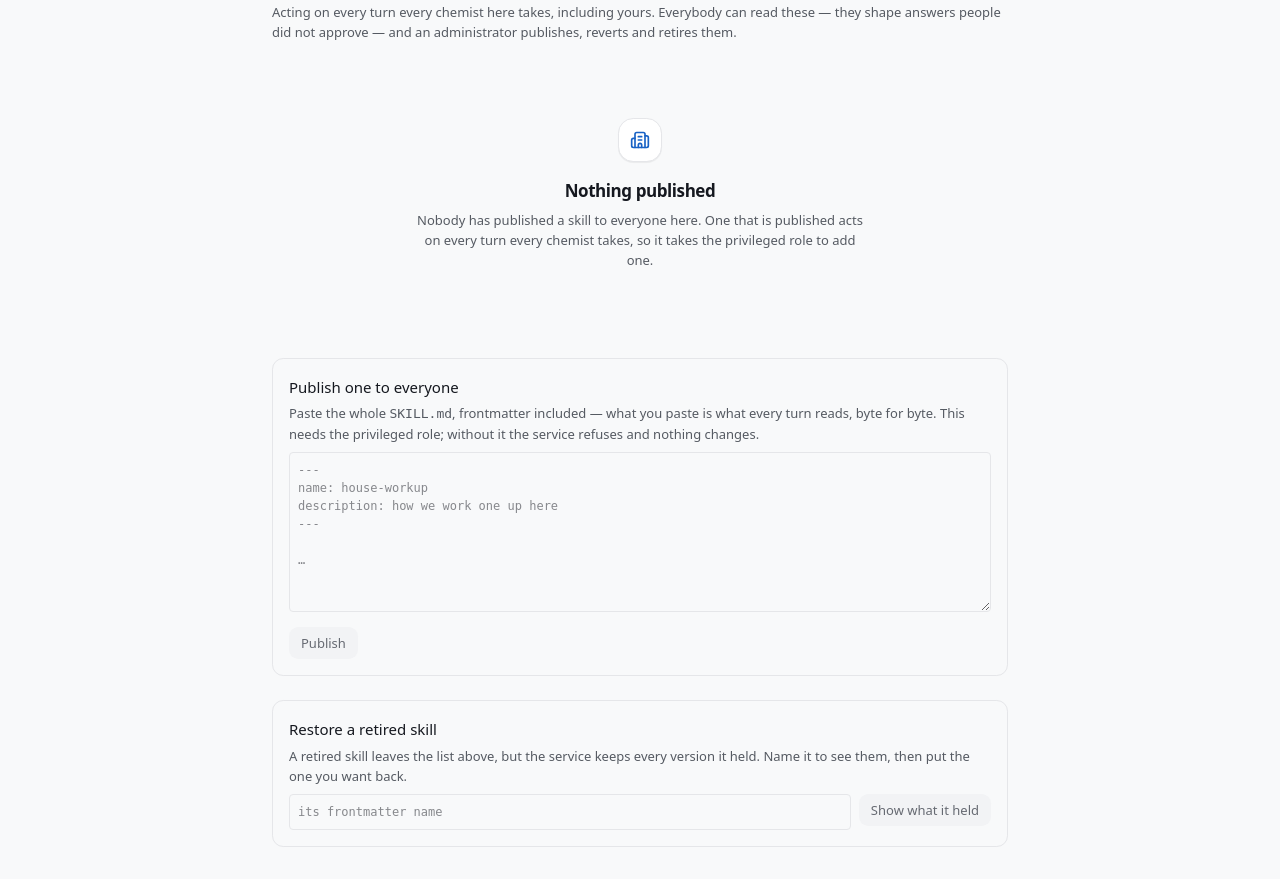
restoring a retired skill › finds a retired skill by name and puts a held body back
This screenshot has width=1280, height=879.
(page scrolled)
expect the heading "Nothing published" is shown: met, box [565, 178, 715, 204]
Type "house-workup" into the field named "Name of the retired skill" at (570, 812), box [289, 794, 851, 830]
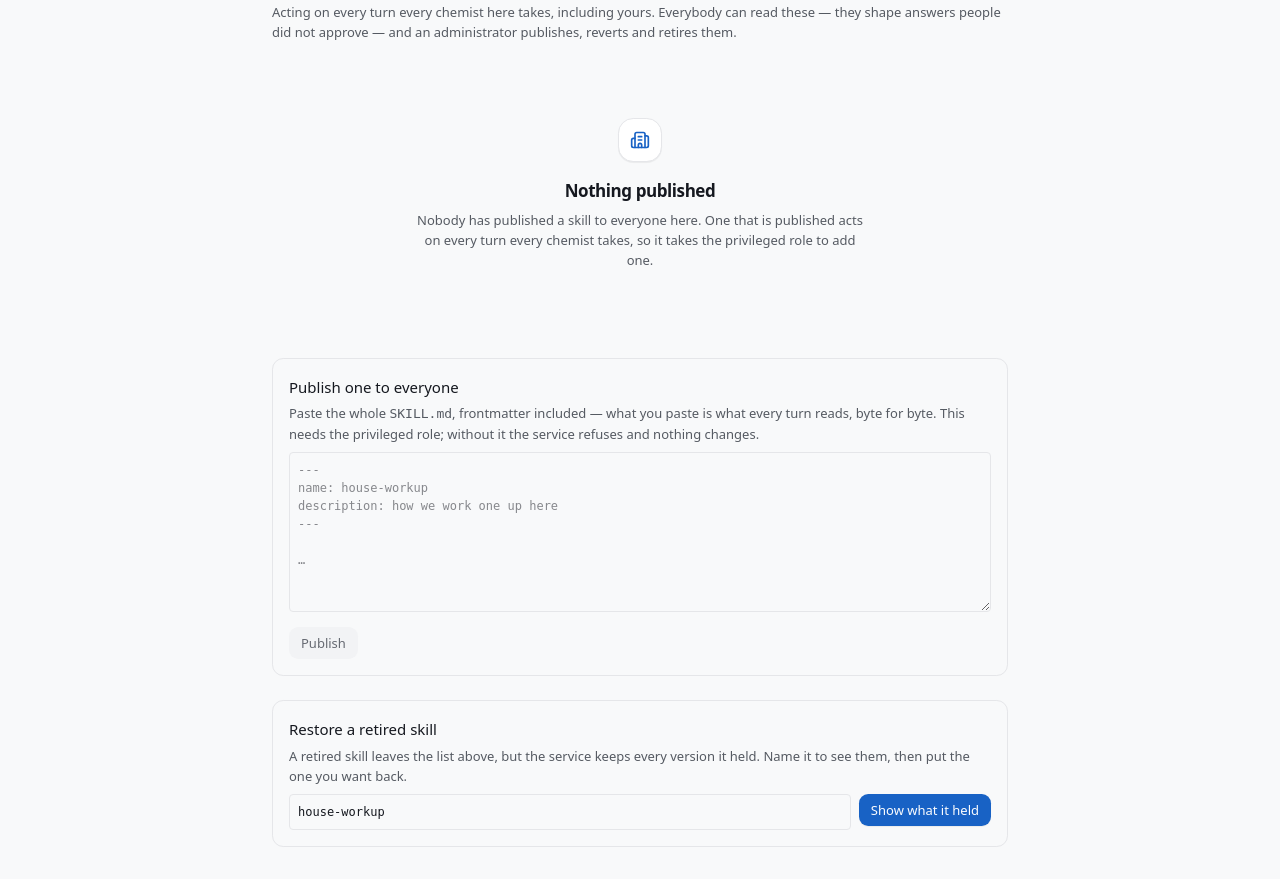
Click the button "Show what it held" at (925, 810), box [859, 794, 991, 826]
(page scrolled)
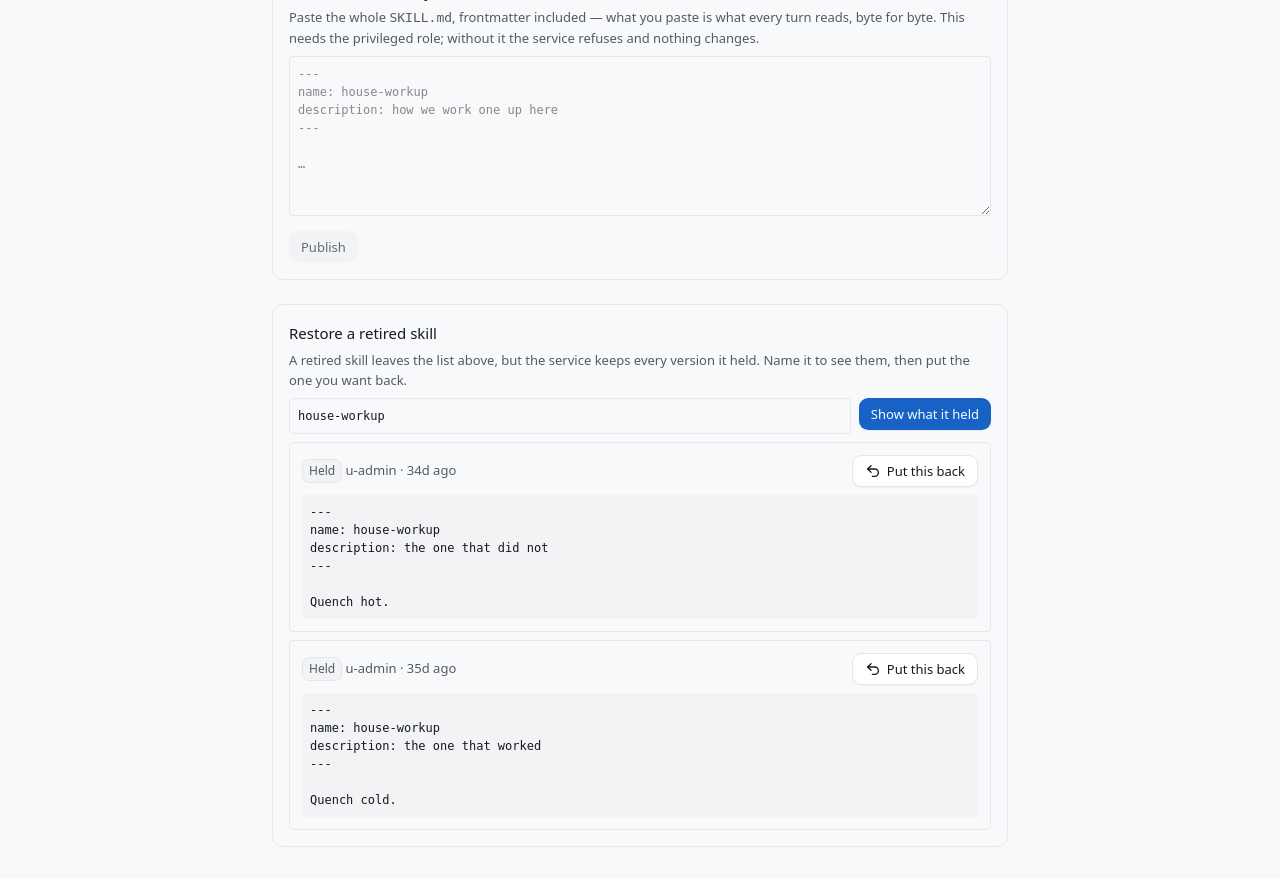
expect the text "Quench hot." is shown: met, box [310, 505, 548, 609]
expect the text "Quench cold." is shown: met, box [310, 703, 541, 807]
expect the number of buttons "Put this back" is 2: met
Click the button "Put this back" in the row of "34d ago" at (915, 471), box [852, 455, 978, 487]
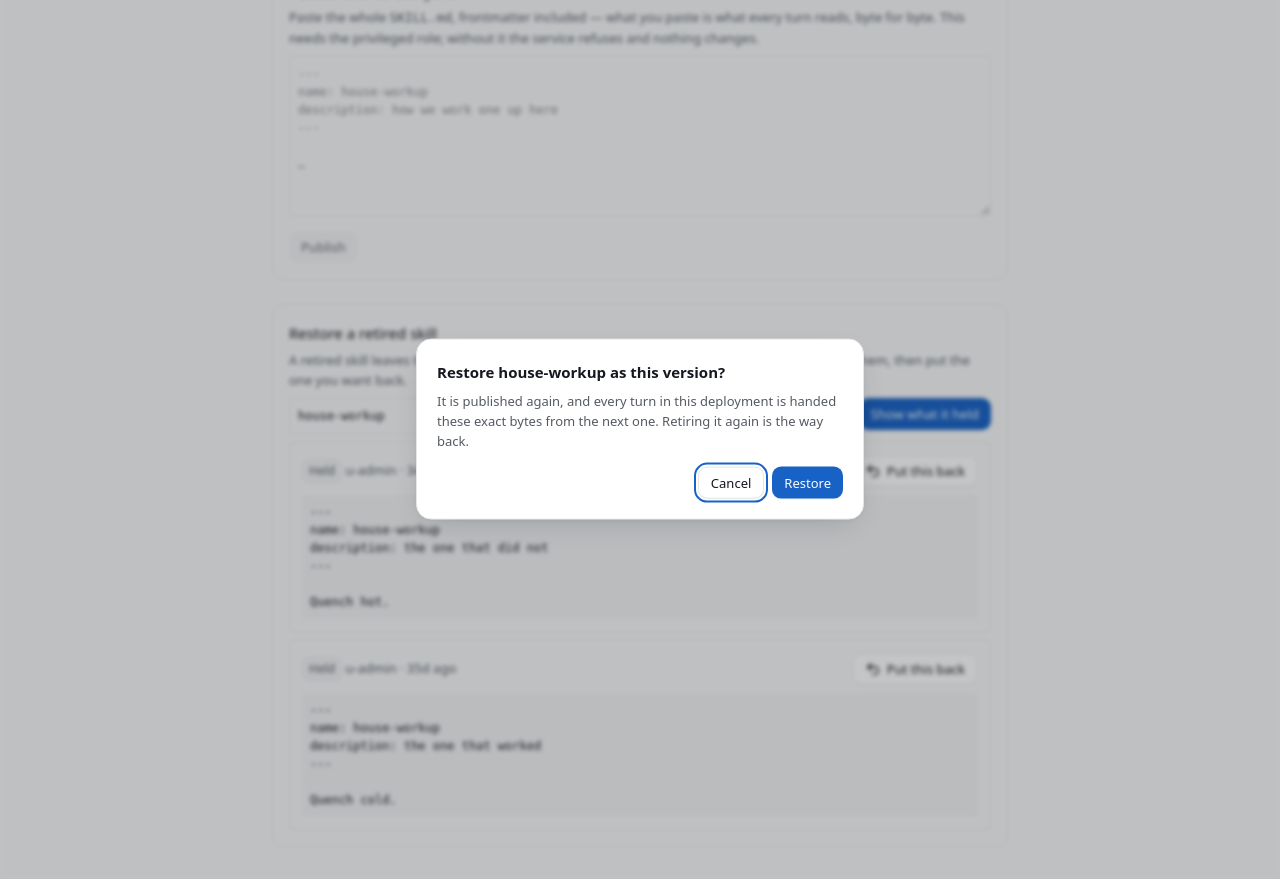
Click the button "Restore" at (808, 482), box [772, 466, 843, 498]
(page scrolled)
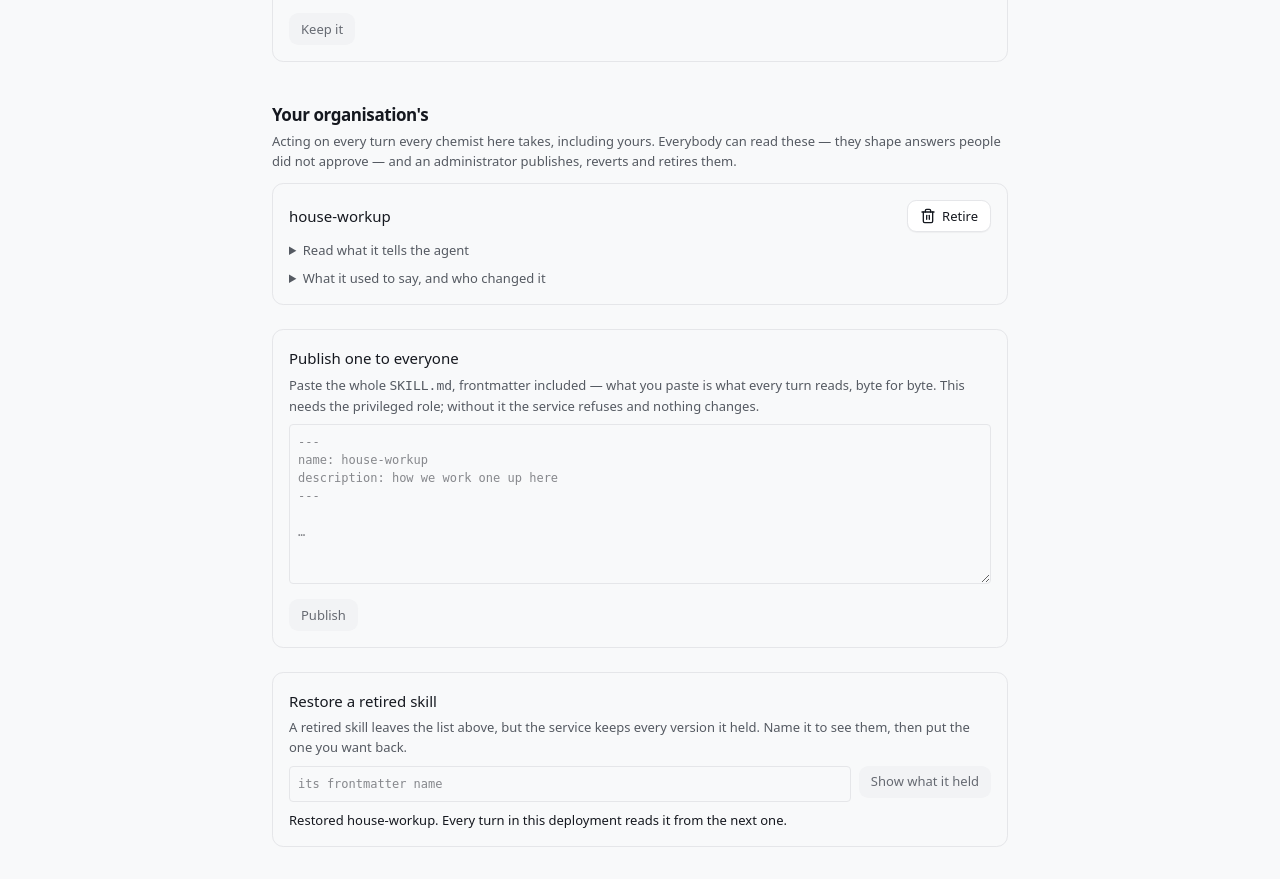
expect the heading "house-workup" is shown: met, box [289, 204, 391, 229]
expect the text "Restored house-workup" is shown: met, box [289, 810, 787, 828]
